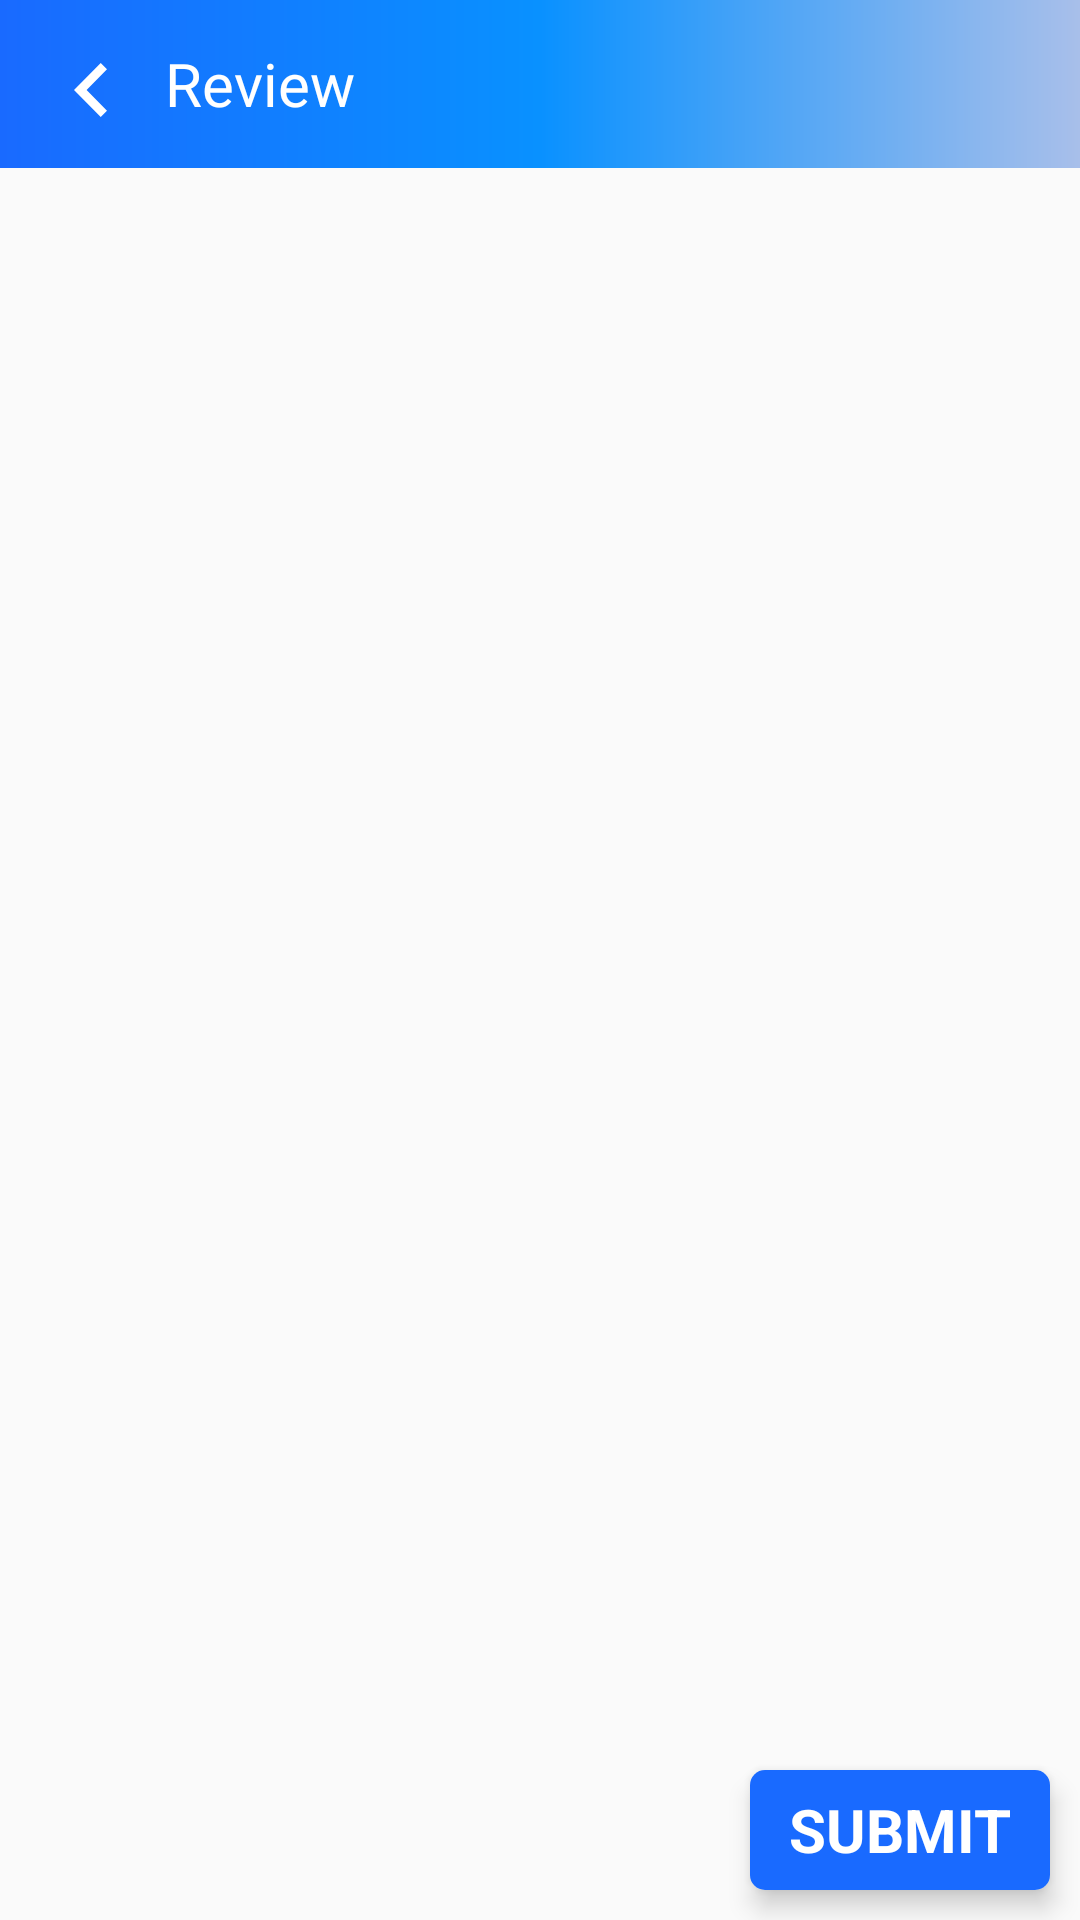

Icon click points for this 1080px x 1920px phone screenshot, format (x,y):
back arror: (90,90)
